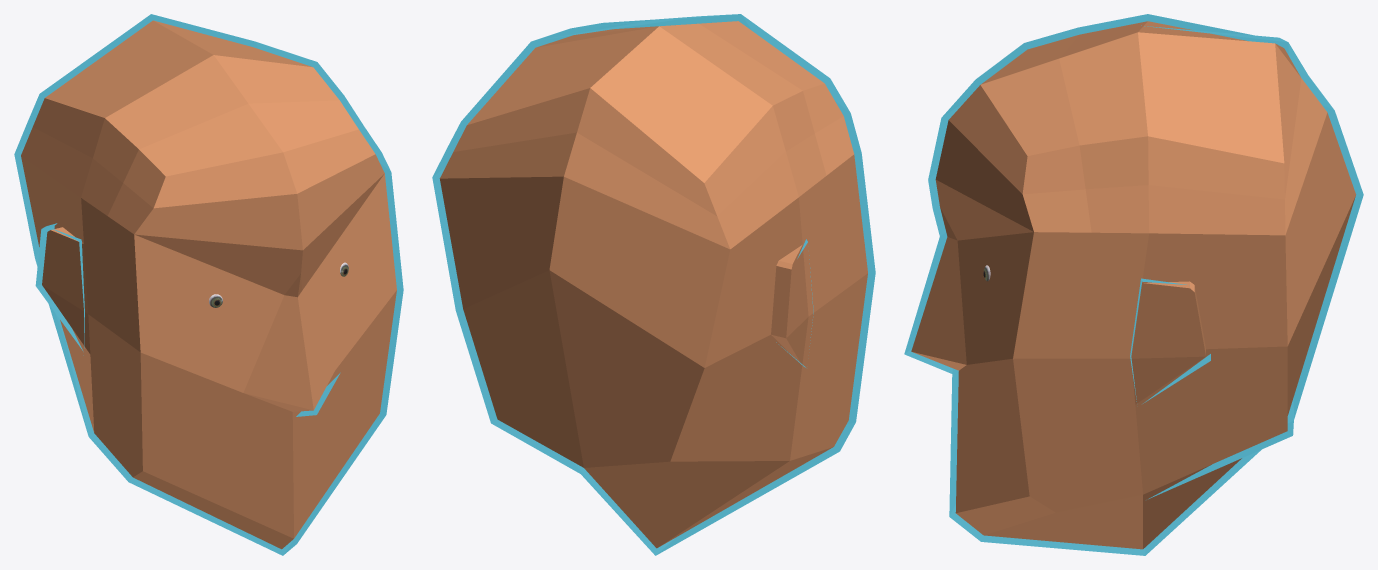
Rendered from simplehead2.gltf.
3 renders of one model, left to right at view 1: azimuth 30°, elevation 25°; view 2: azimuth 150°, elevation 25°; view 3: azimuth 270°, elevation 25°, orthographic. The views are drawn at different scales.
Parts seen in each view (by area): view 1: Cube.001; view 2: Cube.001; view 3: Cube.001.
Part boxes in pixels (x1=…): Cube.001: x1=14, y1=14, x2=403, y2=555; Cube.001: x1=432, y1=14, x2=875, y2=555; Cube.001: x1=904, y1=14, x2=1363, y2=555.
Size of the model in its own units: 4.35 by 6.69 by 5.25.
Materials: 3 (1 with a texture image).
